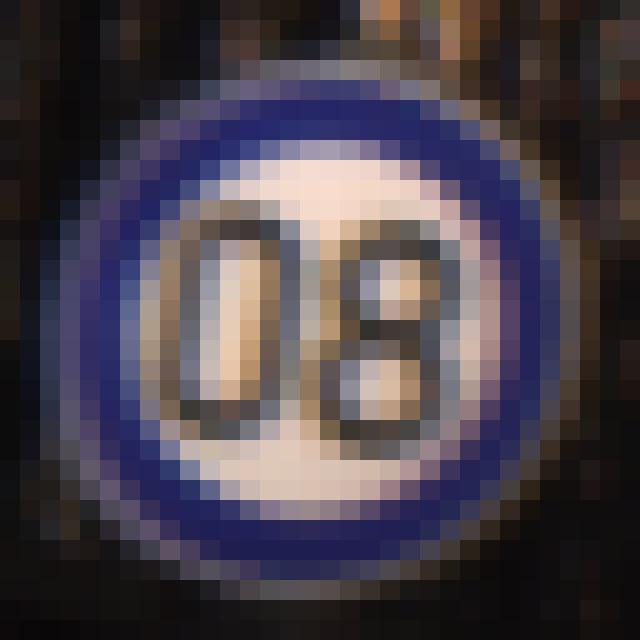SPEED-LIMIT-80: (57, 65, 570, 600)
